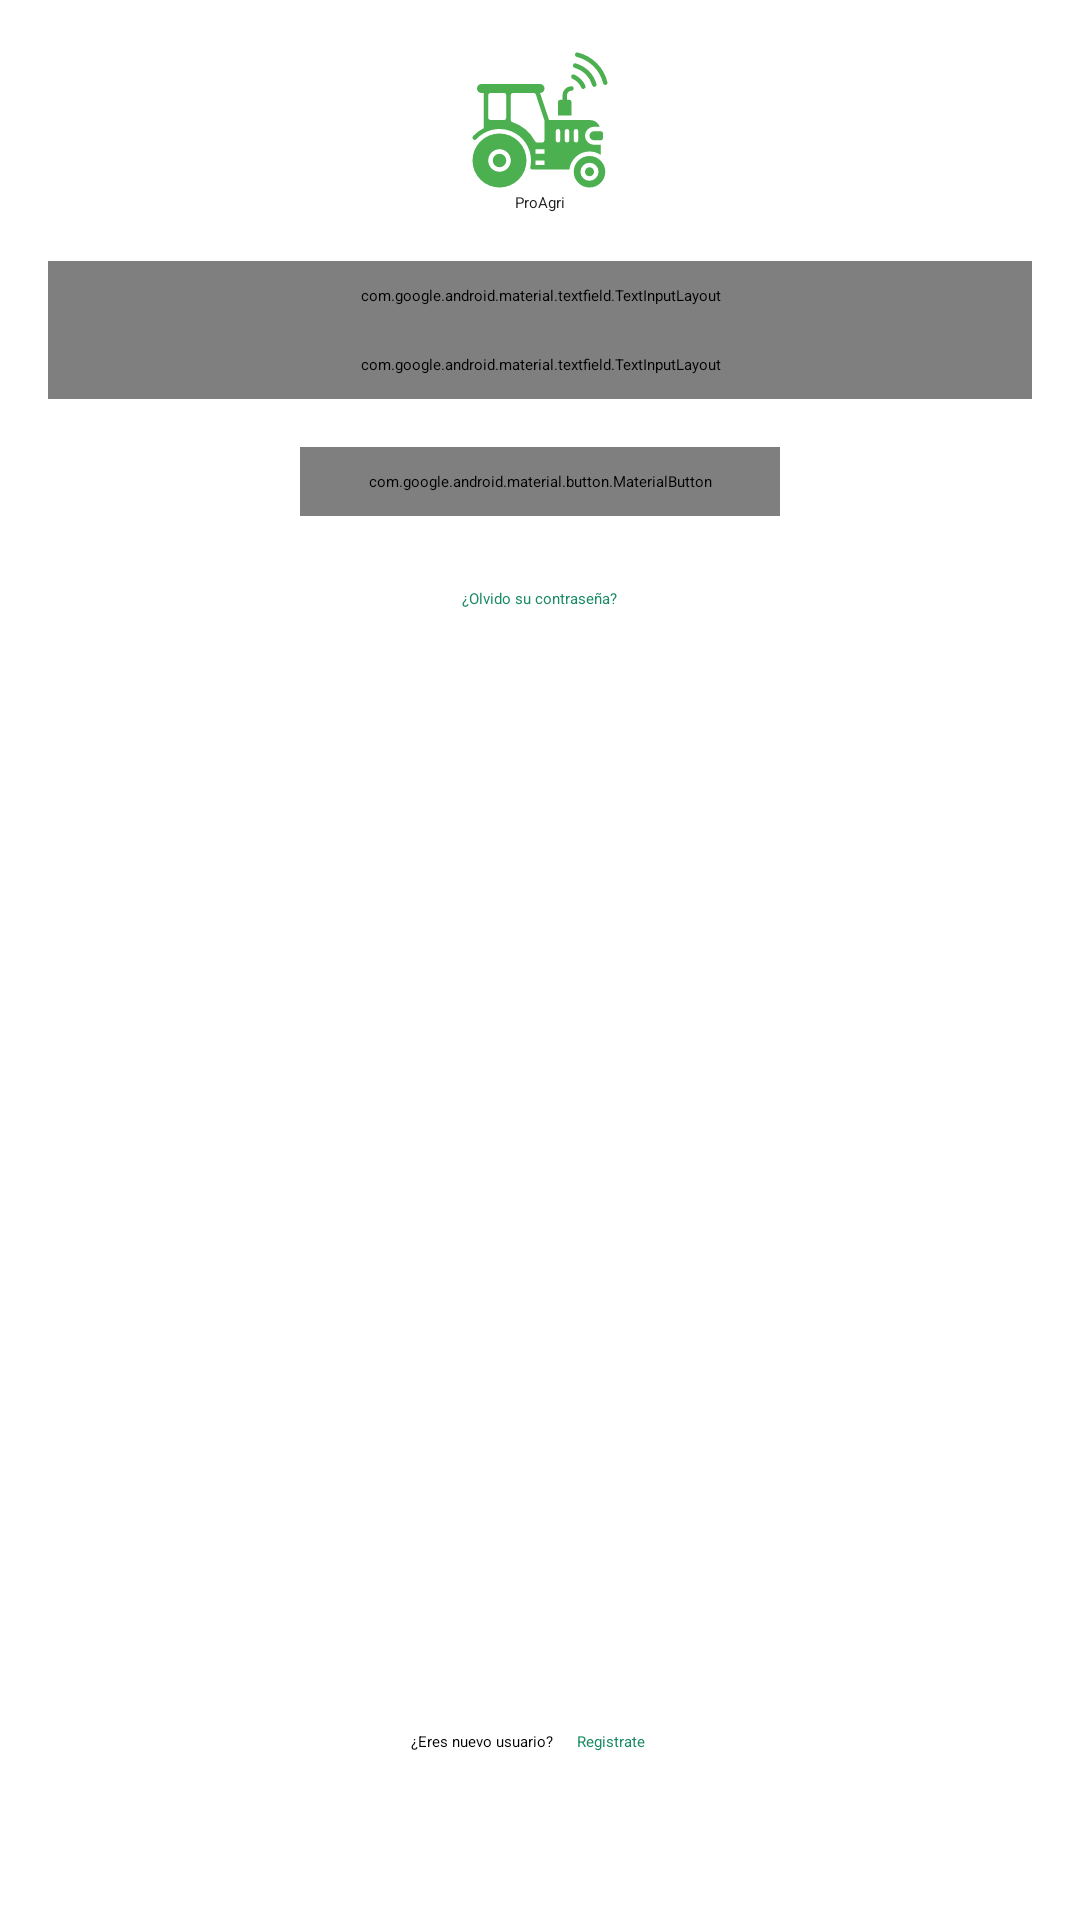

Locate icon controls on the screen. Image size 1080px×1920px, boxes as (x1, y1, x2, y2).
maquina: (472, 52, 608, 188)
